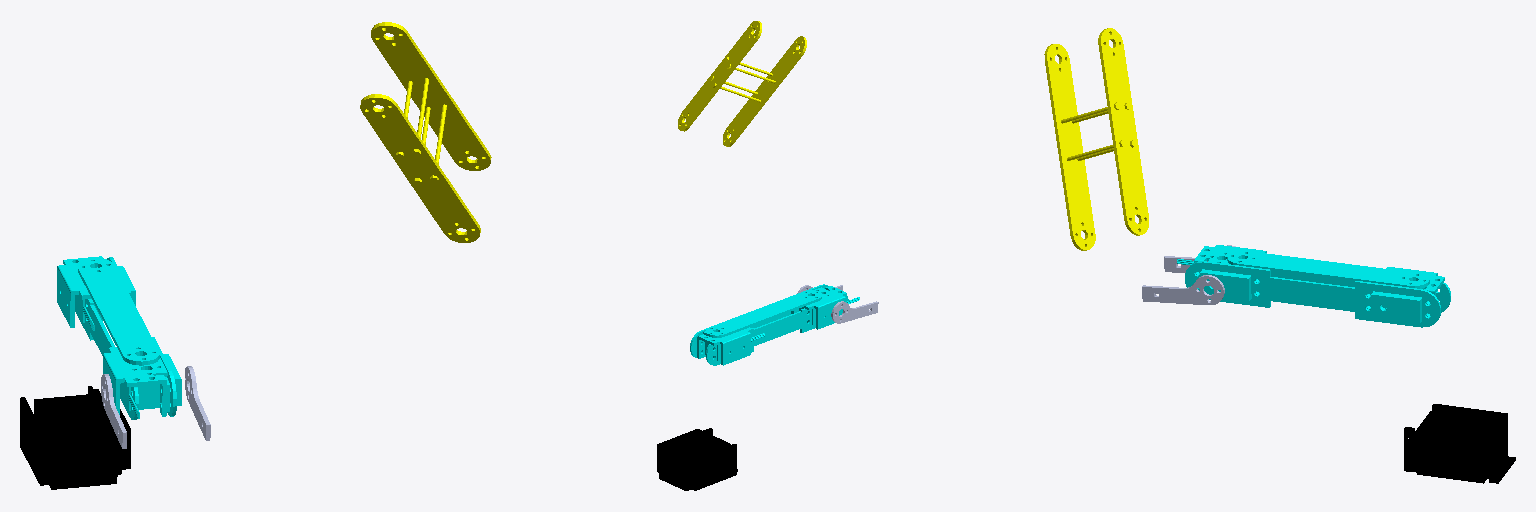
The robot description file, URDF, robot "5DoF-arm-kenny":
<robot
  name="5DoF-arm-kenny">
  <link
    name="base_link">
    <inertial>
      <origin
        xyz="0.06886 0.1931 -0.17069"
        rpy="0 0 0" />
      <mass
        value="0.11287" />
      <inertia
        ixx="4.8922E-05"
        ixy="-1.4252E-06"
        ixz="1.6743E-06"
        iyy="7.0574E-05"
        iyz="-4.5738E-07"
        izz="4.3857E-05" />
    </inertial>
    <visual>
      <origin
        xyz="0 0 0"
        rpy="0 0 0" />
      <geometry>
        <mesh
          filename="package://5DoF-arm-kenny/meshes/base_link.STL" />
      </geometry>
      <material
        name="">
        <color
          rgba="0 0 0 1" />
      </material>
    </visual>
    <collision>
      <origin
        xyz="0 0 0"
        rpy="0 0 0" />
      <geometry>
        <mesh
          filename="package://5DoF-arm-kenny/meshes/base_link.STL" />
      </geometry>
    </collision>
  </link>
  <link
    name="L1">
    <inertial>
      <origin
        xyz="-7.2164E-16 -0.02855 -0.069607"
        rpy="0 0 0" />
      <mass
        value="0.024964" />
      <inertia
        ixx="6.8484E-05"
        ixy="-4.4893E-19"
        ixz="-7.1151E-20"
        iyy="4.8155E-05"
        iyz="-6.9181E-19"
        izz="2.2861E-05" />
    </inertial>
    <visual>
      <origin
        xyz="0 0 0"
        rpy="0 0 0" />
      <geometry>
        <mesh
          filename="package://5DoF-arm-kenny/meshes/L1.STL" />
      </geometry>
      <material
        name="">
        <color
          rgba="1 1 0 1" />
      </material>
    </visual>
    <collision>
      <origin
        xyz="0 0 0"
        rpy="0 0 0" />
      <geometry>
        <mesh
          filename="package://5DoF-arm-kenny/meshes/L1.STL" />
      </geometry>
    </collision>
  </link>
  <joint
    name="J1"
    type="revolute">
    <origin
      xyz="0.083264 0.11027 0.31677"
      rpy="2.1235E-17 0.51698 -1.877" />
    <parent
      link="base_link" />
    <child
      link="L1" />
    <axis
      xyz="0.95347 -0.30148 0" />
    <limit
      effort="0"
      velocity="0" />
  </joint>
  <link
    name="L2">
    <inertial>
      <origin
        xyz="0.090842 -0.011944 -0.012693"
        rpy="0 0 0" />
      <mass
        value="0.10579" />
      <inertia
        ixx="2.2426E-05"
        ixy="-1.5823E-07"
        ixz="1.2951E-06"
        iyy="0.00047761"
        iyz="-6.1784E-07"
        izz="0.00048493" />
    </inertial>
    <visual>
      <origin
        xyz="0 0 0"
        rpy="0 0 0" />
      <geometry>
        <mesh
          filename="package://5DoF-arm-kenny/meshes/L2.STL" />
      </geometry>
      <material
        name="">
        <color
          rgba="0 1 1 1" />
      </material>
    </visual>
    <collision>
      <origin
        xyz="0 0 0"
        rpy="0 0 0" />
      <geometry>
        <mesh
          filename="package://5DoF-arm-kenny/meshes/L2.STL" />
      </geometry>
    </collision>
  </link>
  <joint
    name="J2"
    type="revolute">
    <origin
      xyz="0.13567 -0.01585 0.064748"
      rpy="-3.1416 0.51184 -3.1416" />
    <parent
      link="L1" />
    <child
      link="L2" />
    <axis
      xyz="0 1 0" />
    <limit
      effort="0"
      velocity="0" />
  </joint>
  <link
    name="L3">
    <inertial>
      <origin
        xyz="-0.018818 -0.01115 0.0037361"
        rpy="0 0 0" />
      <mass
        value="0.0057062" />
      <inertia
        ixx="4.8474E-06"
        ixy="-1.747E-21"
        ixz="2.682E-07"
        iyy="2.3034E-06"
        iyz="3.2756E-22"
        izz="6.7343E-06" />
    </inertial>
    <visual>
      <origin
        xyz="0 0 0"
        rpy="0 0 0" />
      <geometry>
        <mesh
          filename="package://5DoF-arm-kenny/meshes/L3.STL" />
      </geometry>
      <material
        name="">
        <color
          rgba="0.79216 0.81961 0.93333 1" />
      </material>
    </visual>
    <collision>
      <origin
        xyz="0 0 0"
        rpy="0 0 0" />
      <geometry>
        <mesh
          filename="package://5DoF-arm-kenny/meshes/L3.STL" />
      </geometry>
    </collision>
  </link>
  <joint
    name="J3"
    type="revolute">
    <origin
      xyz="0.01 0 -0.01"
      rpy="-1.3697E-17 0.072098 2.6158E-15" />
    <parent
      link="L2" />
    <child
      link="L3" />
    <axis
      xyz="0 1 0" />
    <limit
      effort="0"
      velocity="0" />
  </joint>
</robot>

--- What the picture shows (computed from the rendered views, not written in the file) ---
3 views of the same robot in one strip: view 1: azimuth 30°, elevation 25°; view 2: azimuth 150°, elevation 25°; view 3: azimuth 270°, elevation 25° (orthographic).
Model 5DoF-arm-kenny with 4 links and 3 joints (3 revolute), rooted at base_link, posed all joints at 0.
Links seen in each view (by area): view 1: L1, L2, base_link, L3; view 2: L2, L1, base_link, L3; view 3: L2, L1, base_link, L3.
Link boxes in pixels (box(x1,y1,x2,y2)): L1: box(360, 22, 491, 242); L2: box(57, 256, 181, 419); base_link: box(20, 386, 130, 489); L3: box(101, 366, 210, 448); L2: box(690, 284, 859, 365); L1: box(678, 21, 806, 146); base_link: box(657, 428, 737, 490); L3: box(797, 285, 878, 323); L2: box(1177, 245, 1450, 327); L1: box(1044, 28, 1148, 250); base_link: box(1404, 404, 1515, 483); L3: box(1142, 245, 1235, 304).
Size in the robot's own frame: 0.2676 by 0.3678 by 0.4156 metres.
Meshes: 4 distinct files referenced, 4 mesh visuals loaded (4 binary STL).
